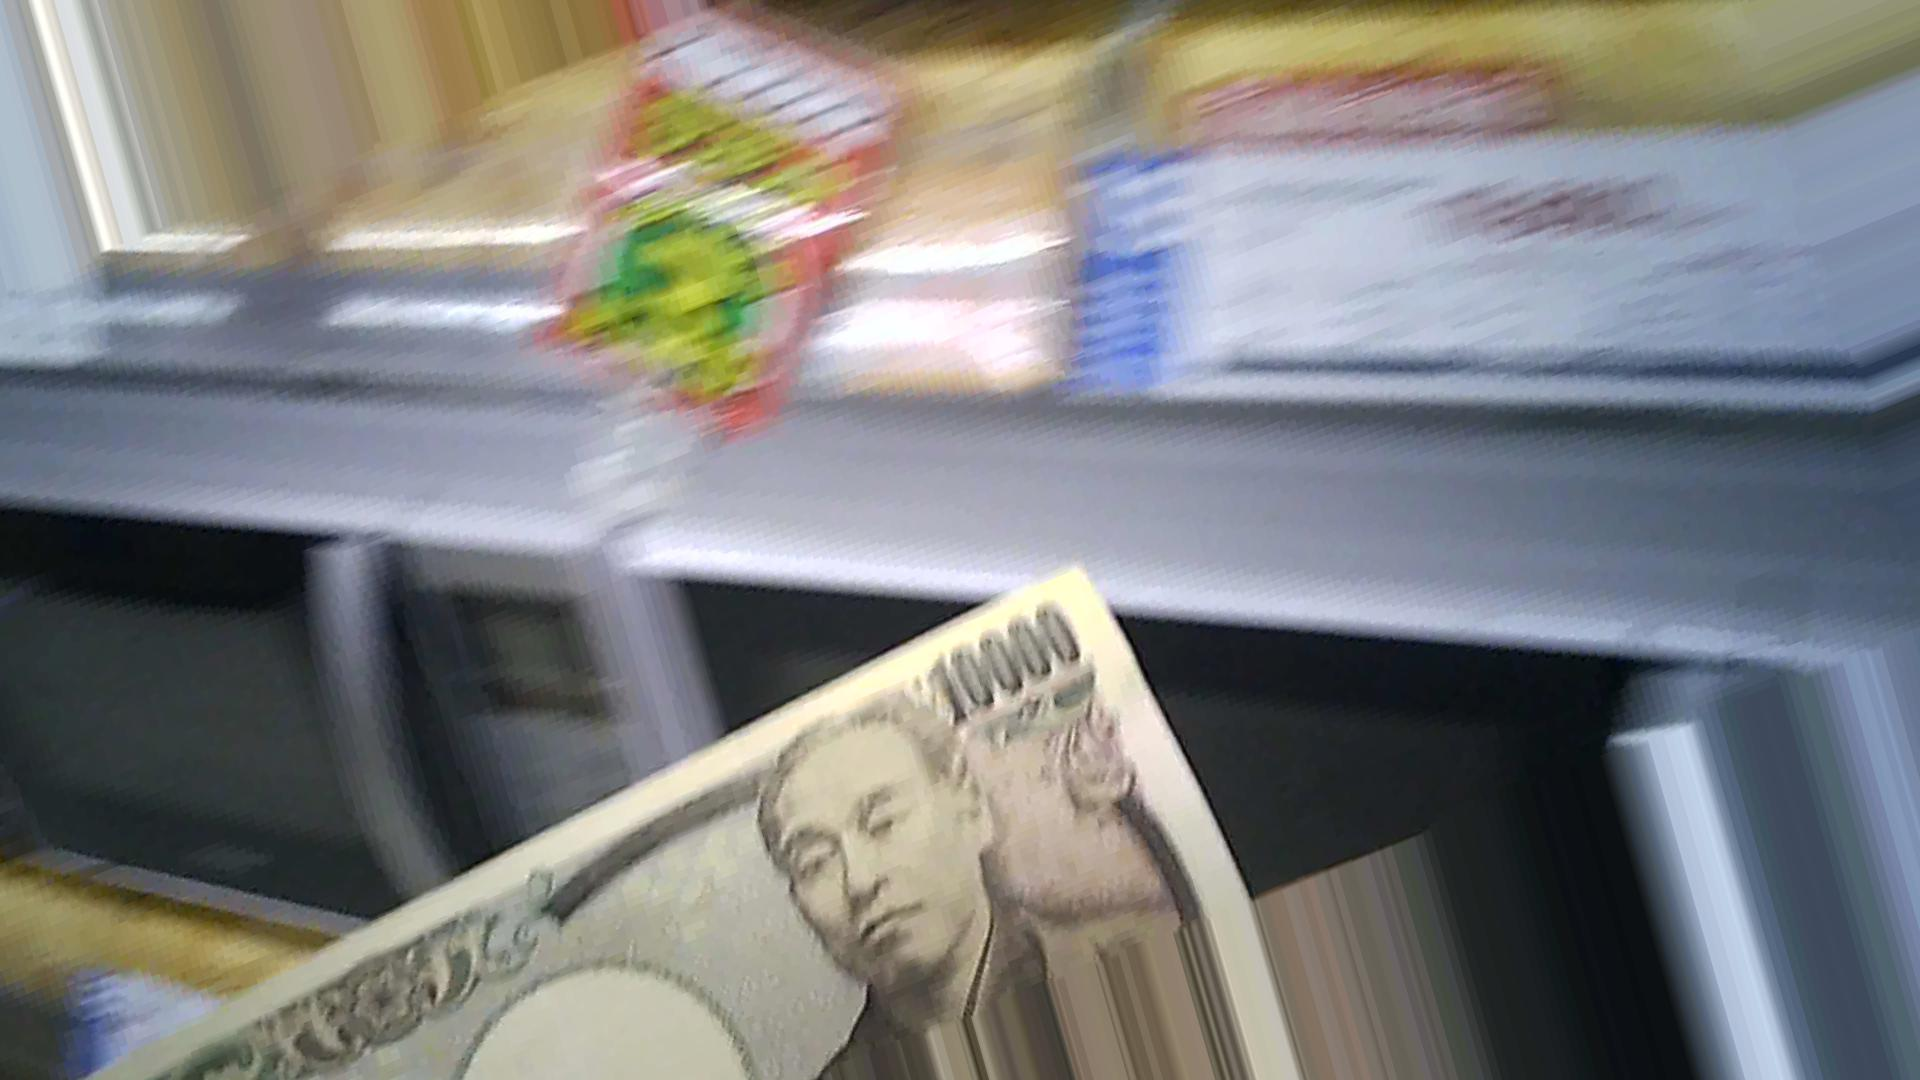10,000 Yen: (156, 535, 1228, 1079)
